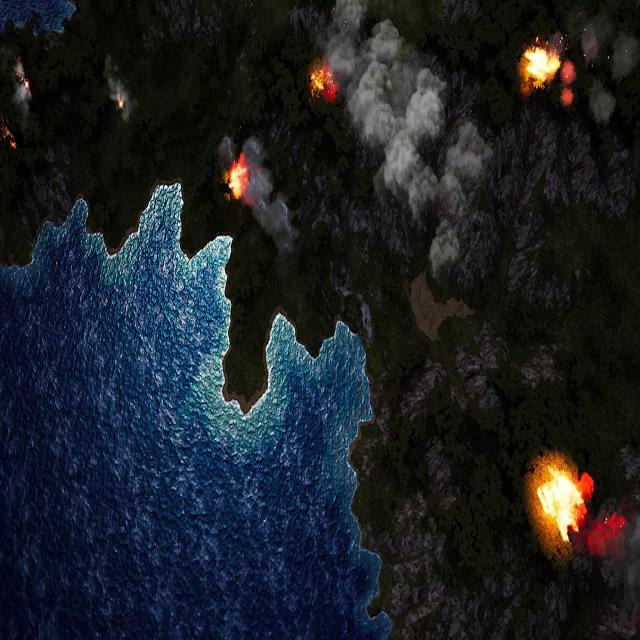fire: (535, 462, 590, 540), (521, 46, 559, 89), (310, 62, 338, 102), (226, 156, 249, 201), (0, 125, 17, 151), (118, 99, 124, 110), (24, 80, 30, 90)
smoke: (316, 1, 494, 280), (554, 3, 638, 131), (228, 129, 302, 267), (588, 513, 640, 595), (103, 56, 139, 126), (12, 59, 35, 129)
